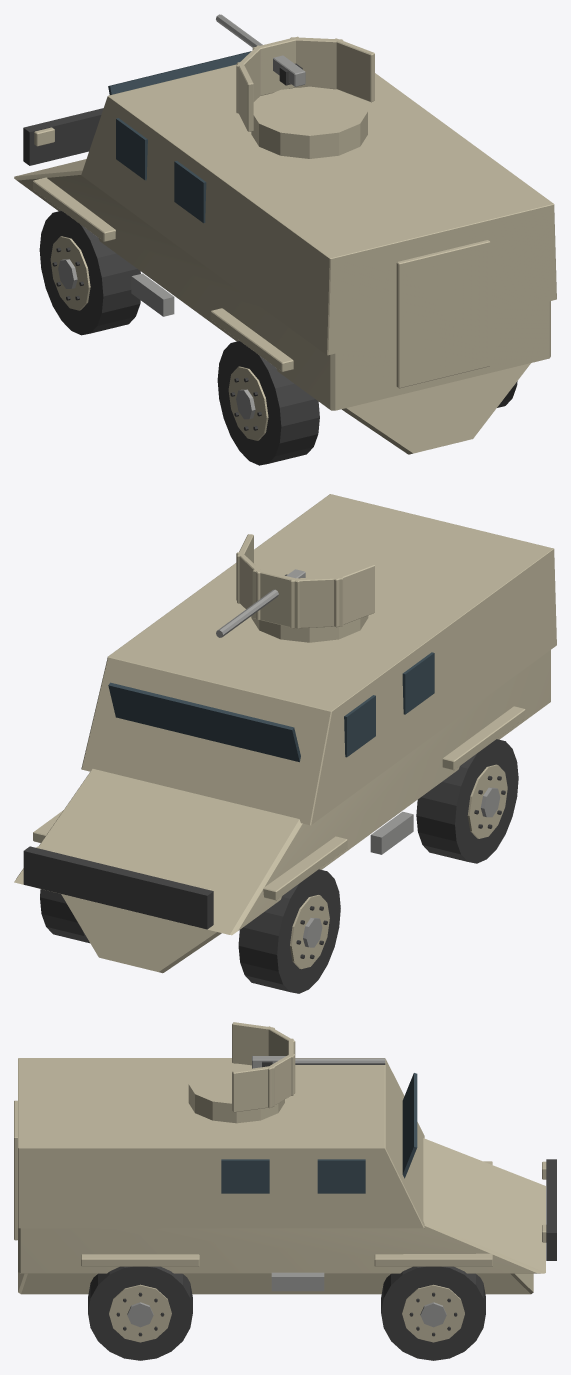
Rendered from rus_mrap_k53949.glb.
3 views of the same model, one above another, from view 1: azimuth 30°, elevation 25°; view 2: azimuth 150°, elevation 25°; view 3: azimuth 270°, elevation 25° (orthographic). The views are drawn at different scales.
Parts seen in each view (by area): view 1: body, turret, wheel_2, wheel_0, barrel; view 2: body, turret, wheel_2, wheel_0, wheel_1, barrel; view 3: body, wheel_1, wheel_3, turret, barrel.
Part boxes in pixels (x1,y1,x2,y2): body: (14,51,556,454); turret: (236,36,374,158); wheel_2: (217,341,319,465); wheel_0: (39,210,140,335); barrel: (216,14,305,86); body: (14,494,556,973); turret: (236,534,374,642); wheel_2: (416,739,518,863); wheel_0: (238,869,340,993); wheel_1: (40,889,89,943); barrel: (216,569,305,637); body: (14,1058,556,1294); wheel_1: (381,1266,485,1360); wheel_3: (88,1266,192,1360); turret: (188,1022,295,1123); barrel: (252,1056,385,1068).
Size of the model in its own units: 2.72 by 3.35 by 6.2.
